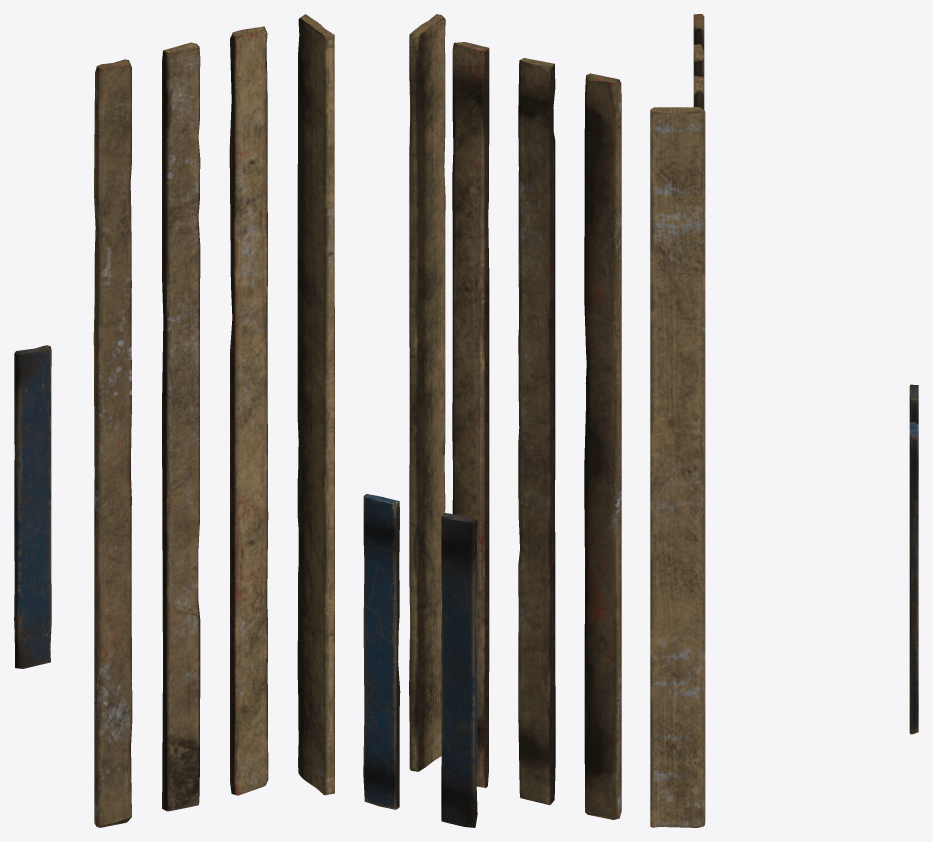
File: Workbench_Group_1_low.obj
The picture shows the model from 3 angles, left to right: view 1: azimuth 30°, elevation 25°; view 2: azimuth 150°, elevation 25°; view 3: azimuth 270°, elevation 25°; orthographic projection. The views are drawn at different scales.
Bounding box in the file's own units: 0.646 × 2.19 × 0.7439.
Materials: 1 (1 with a texture image).
